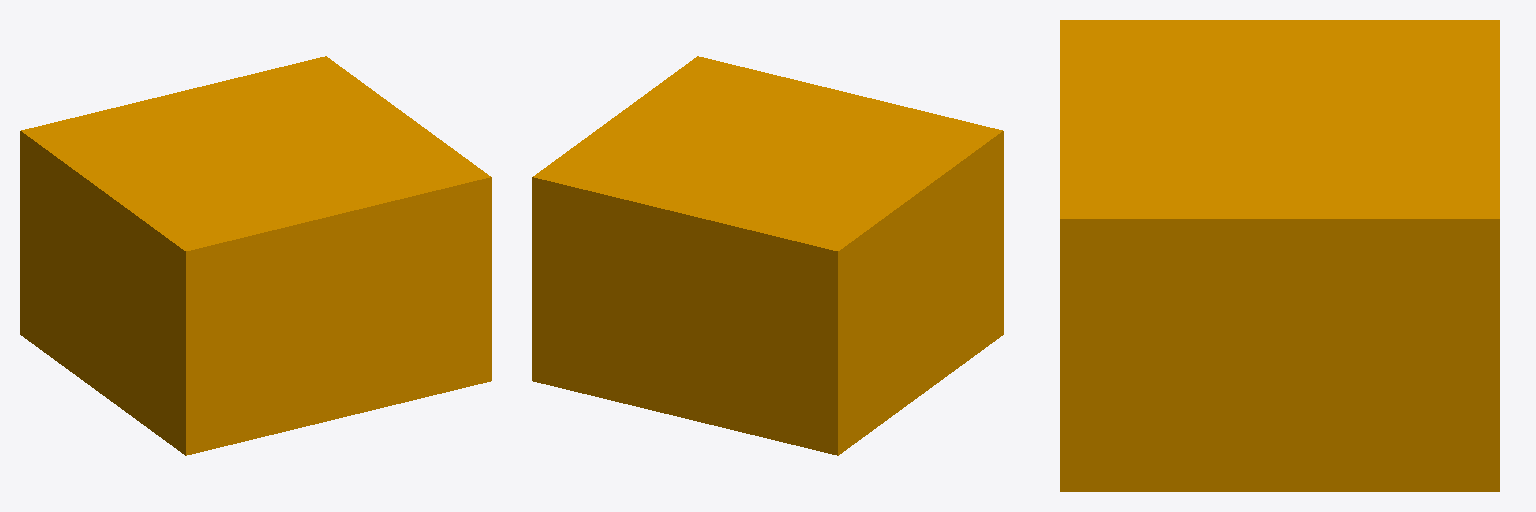
The robot description file, URDF, robot "2x2":
<?xml version='1.0' encoding='UTF-8'?>
<robot name="2x2">
  <link name="base_link">
    <inertial>
      <origin xyz="0.0 0.0 0.0" rpy="0.0 0.0 0.0"/>
      <mass value="0.01"/>
      <inertia ixx="0.1" ixy="0.0" ixz="0.0" iyy="0.1" iyz="0.0" izz="0.1"/>
    </inertial>
    <visual>
      <geometry>
        <box size="     0.0188      0.0176       0.012"/>
      </geometry>
      <material name=""/>
      <origin xyz="0.0 0.0 0.0" rpy="0.0 0.0 0.0"/>
    </visual>
    <collision>
      <geometry>
        <box size="     0.0188      0.0176       0.012"/>
      </geometry>
      <origin xyz="0.0 0.0 0.0" rpy="0.0 0.0 0.0"/>
    </collision>
  </link>
  <material name="">
    <color rgba="          1           1           1           1"/>
  </material>
  <contact>
    <lateral_friction value="1.0"/>
    <rolling_friction value="0.0"/>
    <contact_cfm value="0.0"/>
    <contact_erp value="1.0"/>
  </contact>
</robot>

--- What the picture shows (computed from the rendered views, not written in the file) ---
Views: 3 orthographic renders of the robot side by side, from view 1: azimuth 30°, elevation 25°; view 2: azimuth 150°, elevation 25°; view 3: azimuth 270°, elevation 25°.
Model 2x2 with 1 links and 0 joints (none), rooted at base_link, posed all joints at 0.
Links seen in each view (by area): view 1: base_link; view 2: base_link; view 3: base_link.
Boxes of the visible links, x1=… form: base_link: x1=20, y1=56, x2=491, y2=455; base_link: x1=532, y1=56, x2=1003, y2=455; base_link: x1=1060, y1=20, x2=1499, y2=491.
Size in the robot's own frame: 0.0188 by 0.0176 by 0.012 metres.
Geometry: primitives only (box / cylinder / sphere), no mesh files.